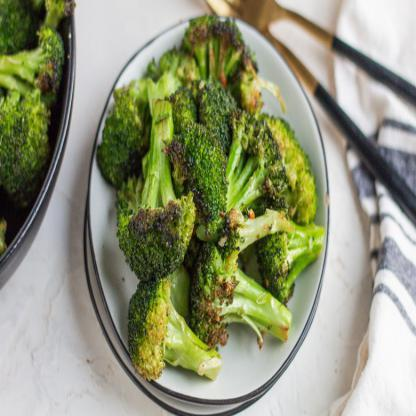broccoli: (94, 13, 328, 388), (0, 0, 75, 251)
